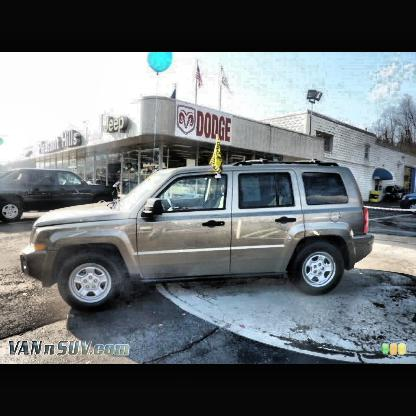Jeep Patriot SUV 2012: (20, 163, 374, 311)
